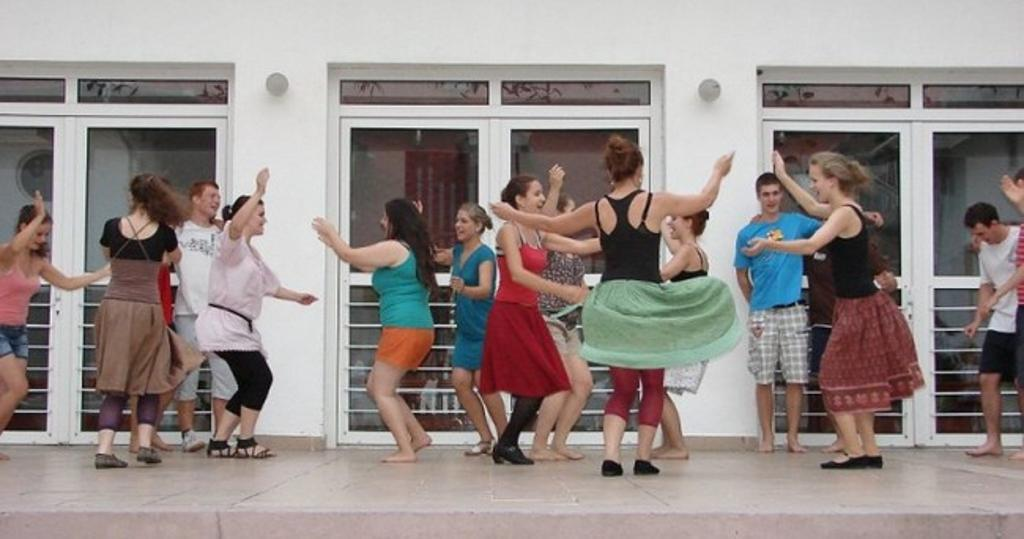face: (669, 208, 694, 239), (555, 205, 578, 233), (973, 219, 997, 245), (809, 171, 828, 202), (527, 187, 546, 217), (201, 190, 222, 217), (380, 210, 399, 239), (29, 226, 52, 249), (249, 208, 268, 235), (761, 188, 780, 213), (456, 215, 473, 240)
